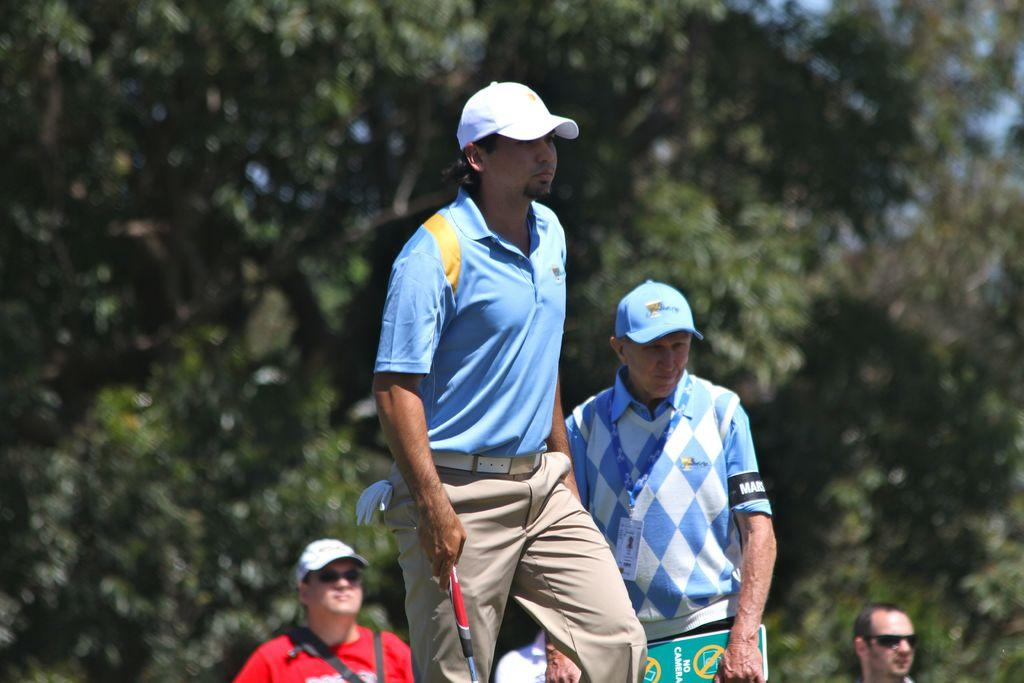Hat: (456, 78, 577, 154), (614, 275, 702, 340), (295, 540, 367, 588)
